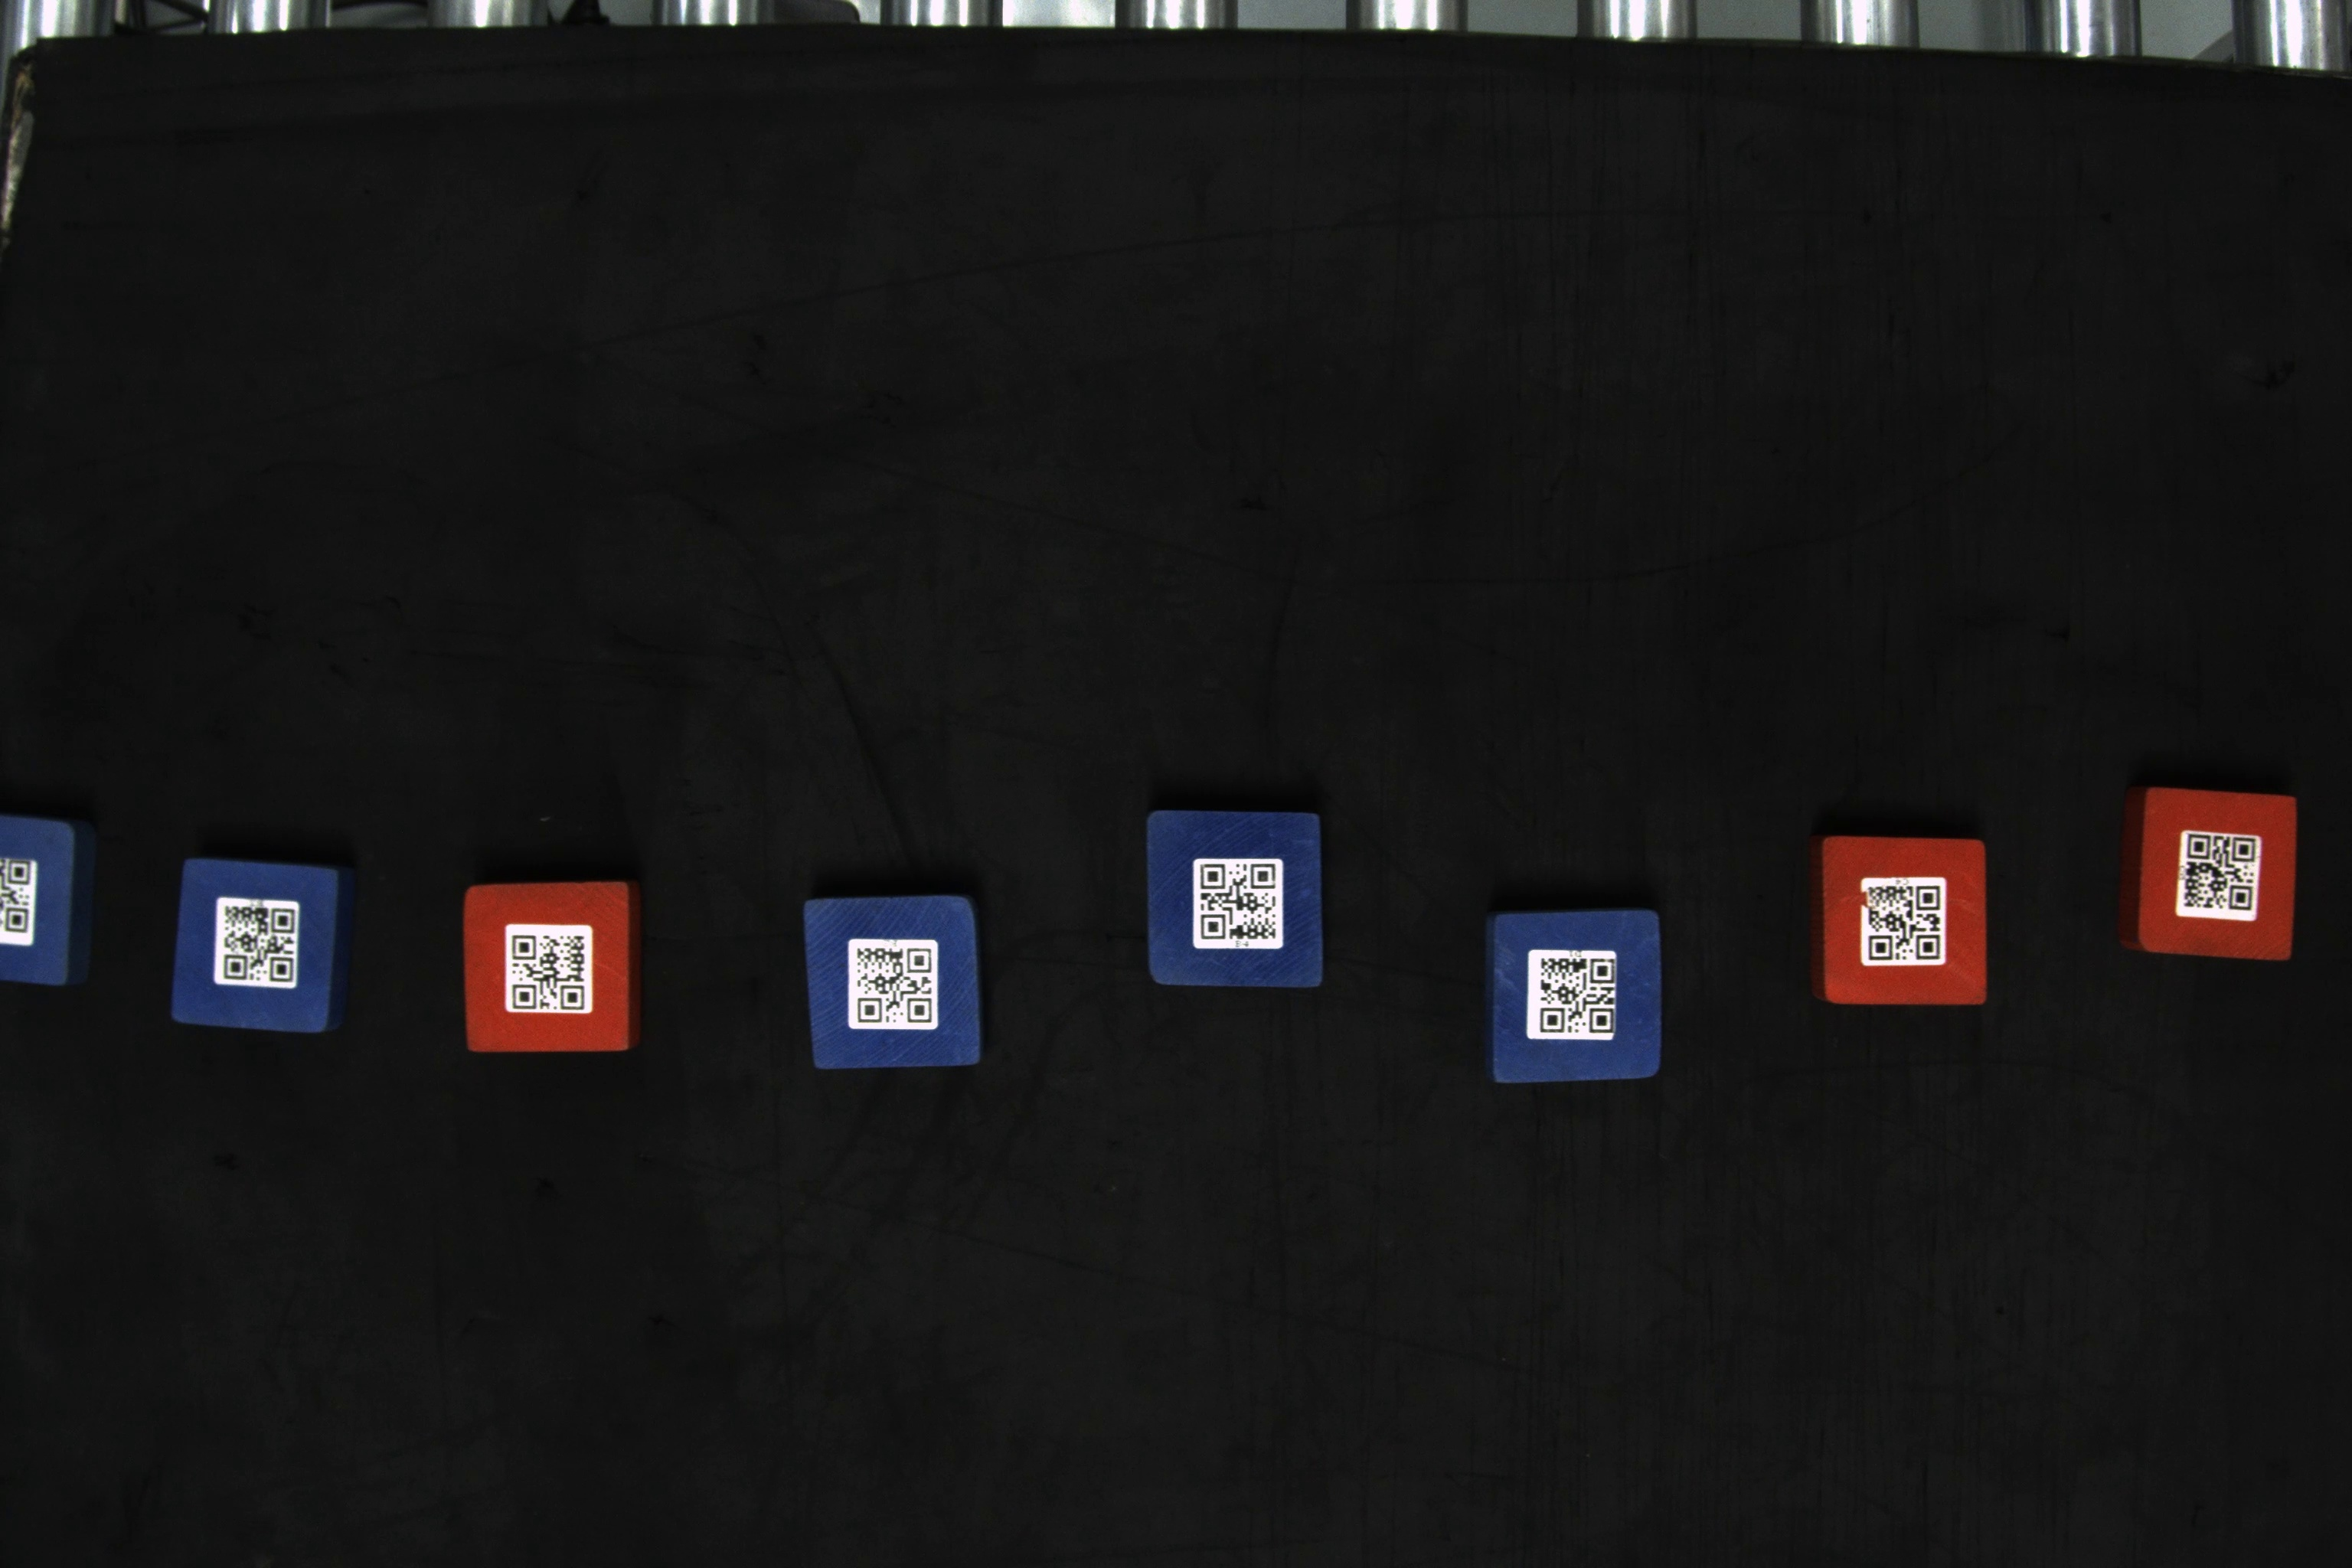wood: (791, 891, 990, 1078), (1137, 803, 1330, 996), (164, 856, 360, 1041), (2114, 779, 2305, 966), (451, 880, 649, 1060), (1480, 906, 1669, 1085), (1806, 833, 1997, 1003), (5, 815, 107, 996)
